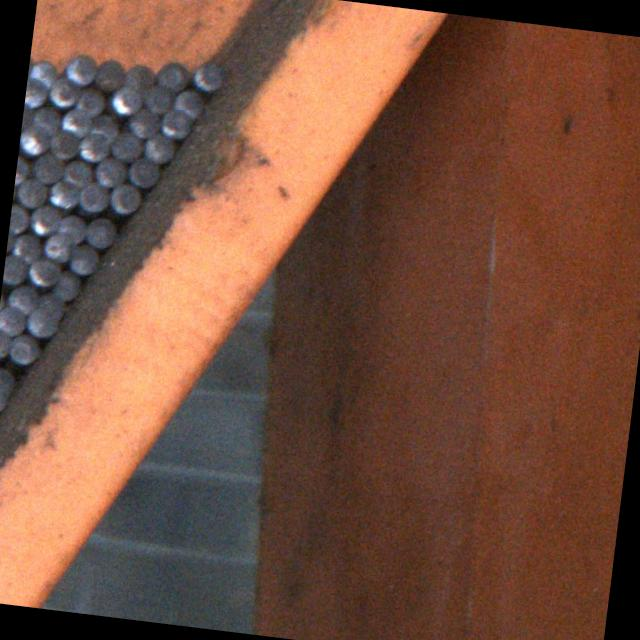tool: (0, 345, 34, 394), (153, 58, 190, 93), (93, 154, 129, 188), (92, 55, 126, 91), (23, 305, 58, 339), (31, 150, 66, 184), (191, 58, 226, 92), (172, 88, 208, 121), (76, 178, 110, 212), (126, 154, 160, 188), (8, 329, 41, 364), (45, 177, 80, 210), (107, 181, 143, 213), (108, 130, 144, 162), (26, 255, 60, 288), (84, 215, 118, 248), (62, 155, 96, 188), (28, 100, 62, 133), (128, 105, 162, 138), (73, 82, 106, 116), (108, 84, 144, 115), (7, 282, 40, 315), (41, 230, 75, 262), (142, 132, 176, 164), (158, 106, 192, 138), (46, 74, 78, 108), (10, 229, 42, 262), (56, 211, 88, 244), (14, 175, 46, 208), (46, 128, 79, 160), (28, 56, 61, 88), (64, 52, 97, 84), (60, 104, 91, 138), (51, 268, 83, 300), (68, 242, 100, 274), (29, 202, 60, 235), (76, 131, 110, 161), (89, 112, 121, 143), (142, 82, 173, 114), (124, 62, 157, 92), (36, 290, 68, 320), (20, 124, 50, 156), (0, 303, 28, 337), (2, 253, 28, 286), (8, 202, 31, 235), (24, 76, 48, 106), (14, 154, 32, 186), (0, 327, 12, 359), (0, 381, 10, 413)
